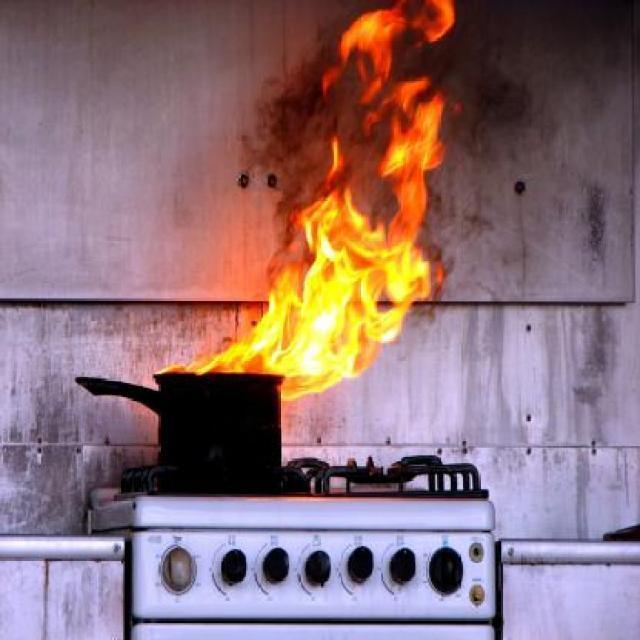fire: (156, 0, 457, 401)
